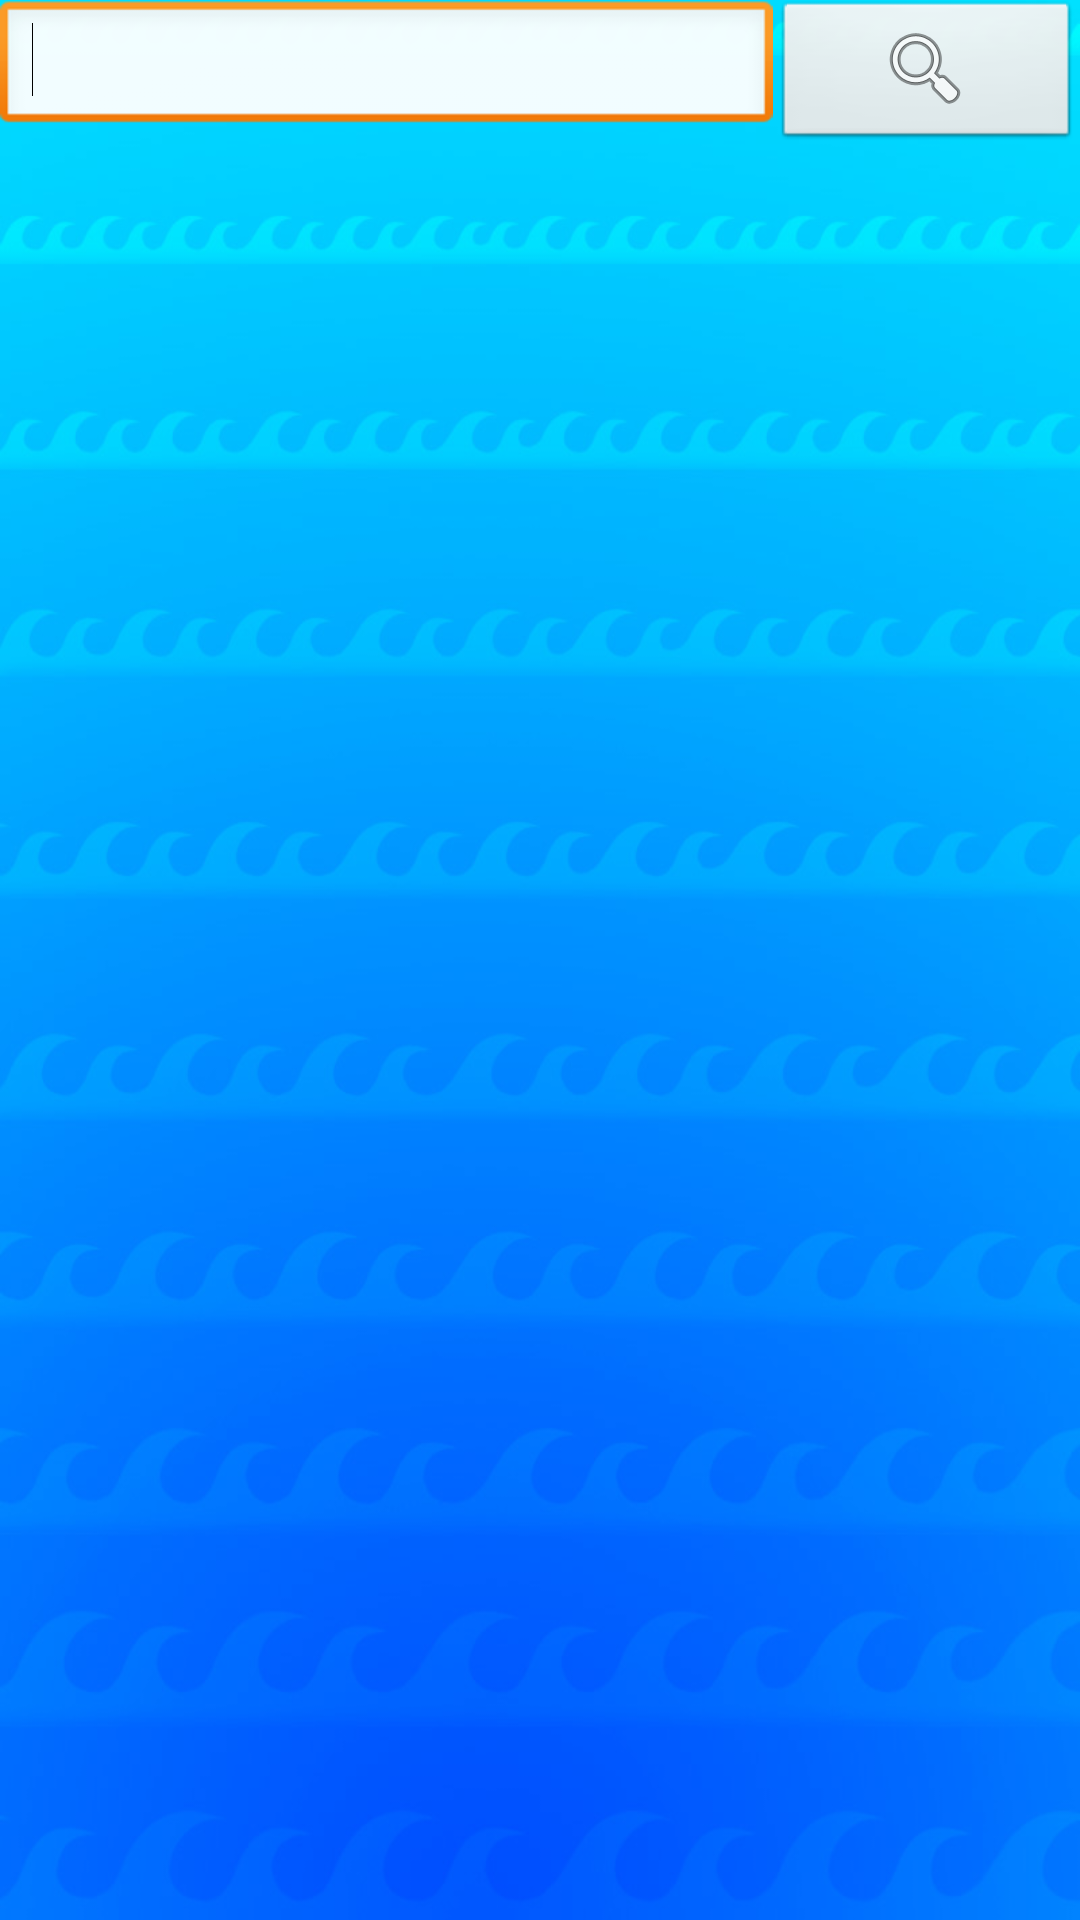

Point at icon controls on the screen. Image size 1080×1920, points as [x,y].
search: [927,70]
